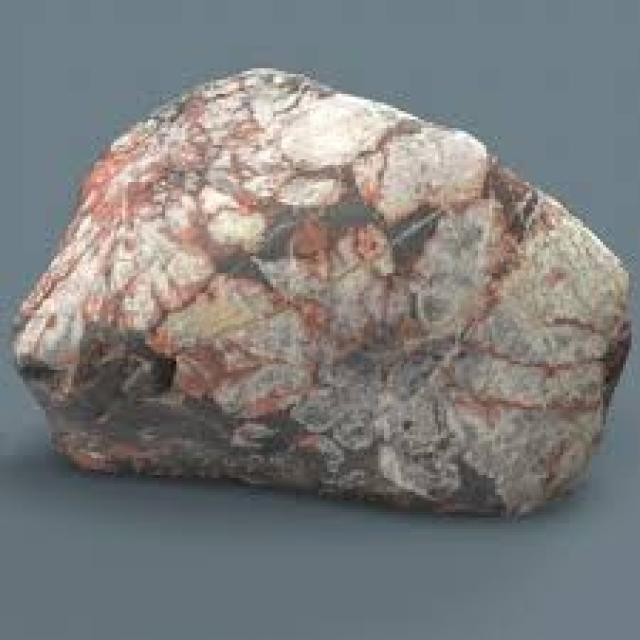Metamorphic: (17, 57, 629, 523)
